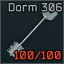Dorm room 306 key: (0, 0, 64, 64)
